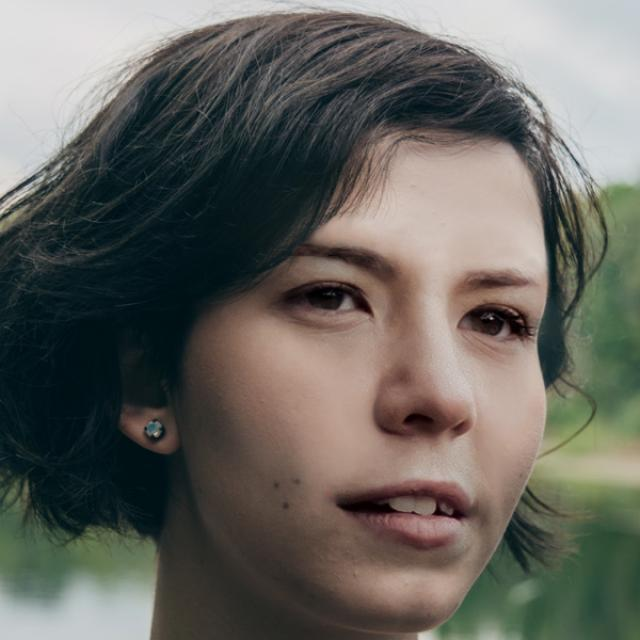face: (134, 131, 579, 622)
